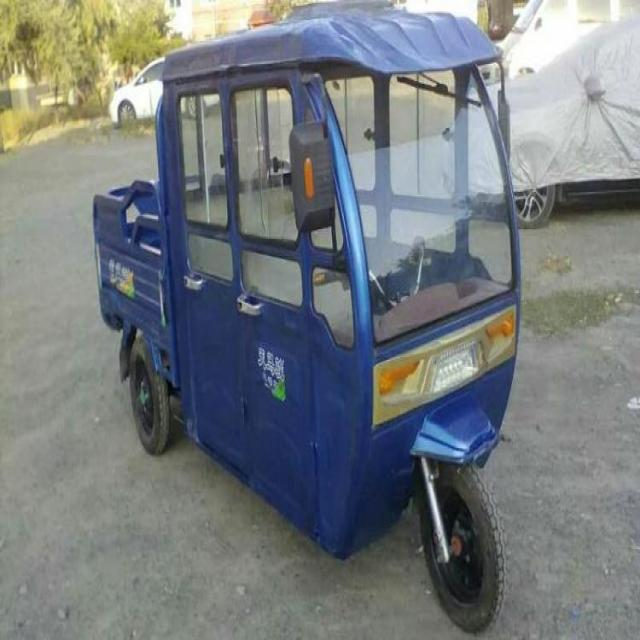car: (440, 14, 639, 228), (108, 50, 218, 128)
tricycle: (88, 3, 523, 630)
